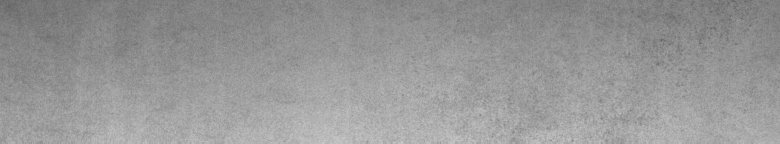ib: (616, 24, 716, 124)
